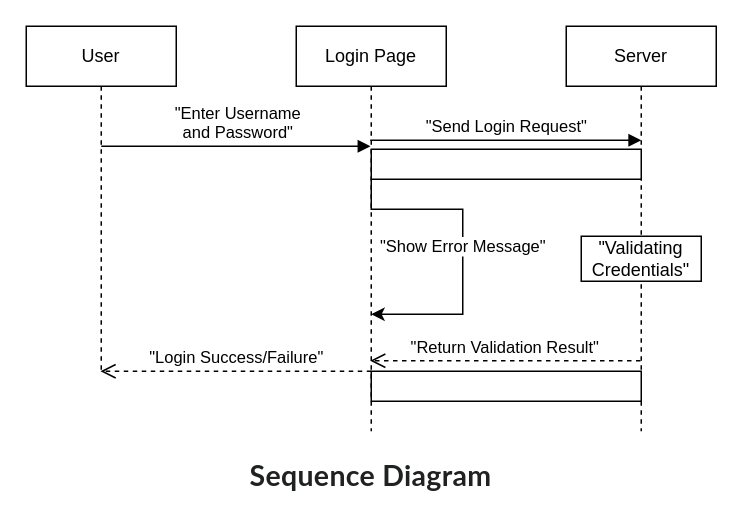
Some shapes in this 743 by 519 pixel diagram are drawn without their labels. The box of each missing label's shape, as (x1, y1, x2, y2) in pixels:
Display Result: (370, 370, 641, 401)
Processing Request: (370, 148, 641, 179)
